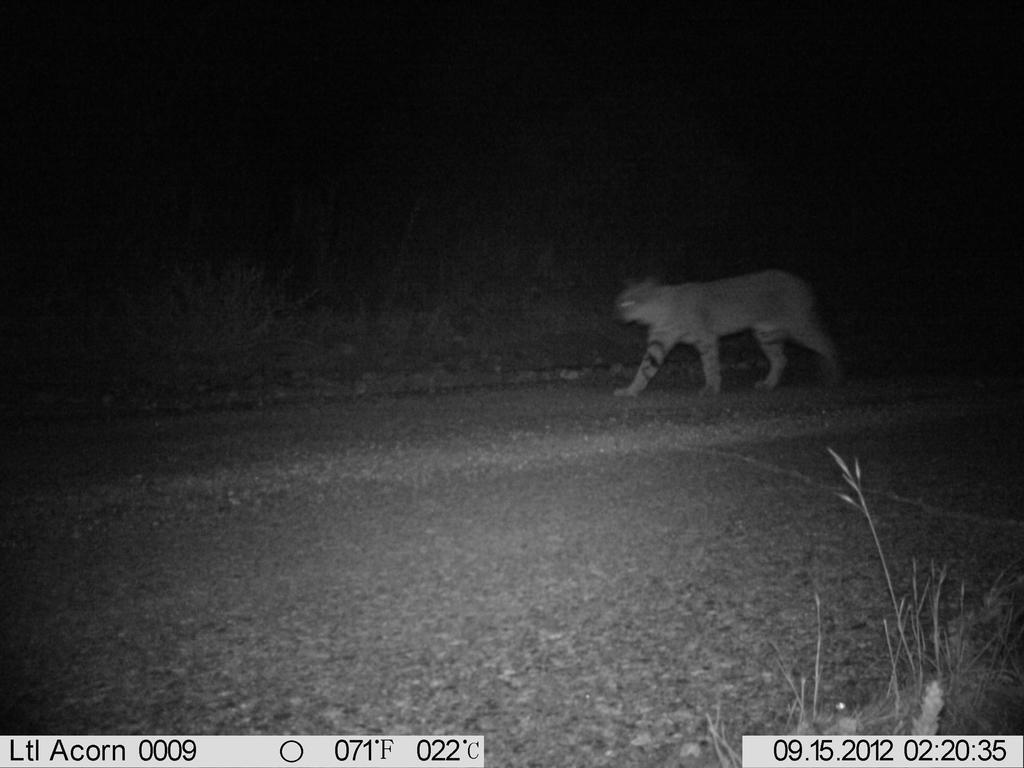bobcat: (596, 250, 872, 425)
